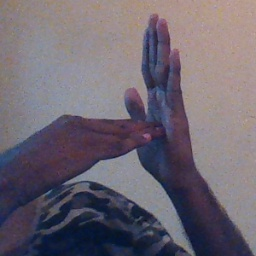Z: (73, 11, 199, 178)
